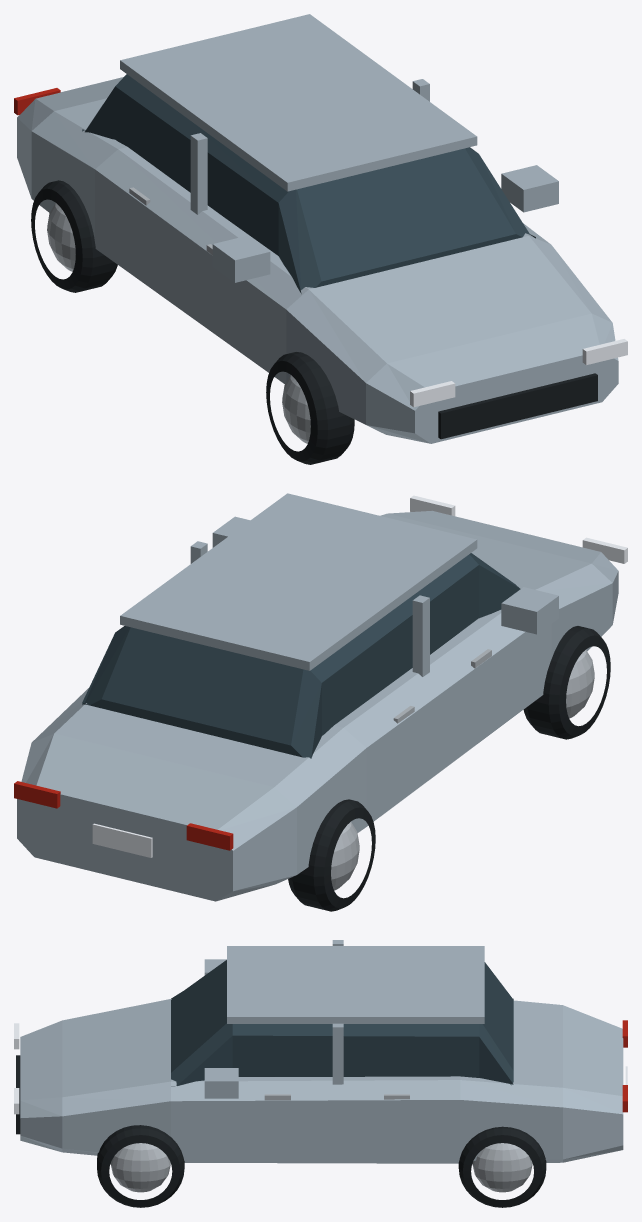
File: campus_ev.glb
The picture shows the model from 3 angles, top to bottom: view 1: azimuth 30°, elevation 25°; view 2: azimuth 150°, elevation 25°; view 3: azimuth 270°, elevation 25°; orthographic projection. The views are drawn at different scales.
Visible parts, largest first — view 1: body, roof, glass, wheel-front-right, lower-grille, mirror (×2), wheel-back-right, alloy-hub (×2), front-light (×2), window-pillar; view 2: body, roof, glass, wheel-front-right, wheel-back-right, alloy-hub (×2), mirror, rear-light (×2), window-pillar, number-plate, front-light (×2); view 3: body, glass, roof, alloy-hub (×2), wheel-front-left, wheel-back-left, mirror, window-pillar.
Boxes of the visible parts, bbox=[...] form: body: bbox=[17, 77, 618, 443]; roof: bbox=[120, 14, 477, 191]; glass: bbox=[82, 74, 535, 293]; wheel-front-right: bbox=[266, 352, 354, 464]; lower-grille: bbox=[438, 373, 597, 439]; mirror (×2): bbox=[212, 165, 558, 282]; wheel-back-right: bbox=[31, 180, 117, 292]; alloy-hub (×2): bbox=[47, 203, 310, 443]; front-light (×2): bbox=[410, 339, 627, 407]; window-pillar: bbox=[190, 133, 207, 214]; body: bbox=[17, 510, 618, 901]; roof: bbox=[120, 493, 477, 670]; glass: bbox=[82, 553, 520, 758]; wheel-front-right: bbox=[523, 626, 610, 739]; wheel-back-right: bbox=[288, 799, 375, 911]; alloy-hub (×2): bbox=[331, 650, 594, 890]; mirror: bbox=[501, 587, 558, 634]; rear-light (×2): bbox=[14, 781, 233, 850]; window-pillar: bbox=[412, 595, 429, 676]; number-plate: bbox=[92, 823, 152, 857]; front-light (×2): bbox=[410, 495, 627, 563]; body: bbox=[20, 999, 623, 1163]; glass: bbox=[171, 960, 513, 1086]; roof: bbox=[227, 946, 484, 1023]; alloy-hub (×2): bbox=[110, 1143, 532, 1192]; wheel-front-left: bbox=[97, 1125, 184, 1207]; wheel-back-left: bbox=[458, 1126, 546, 1207]; mirror: bbox=[204, 1068, 238, 1098]; window-pillar: bbox=[332, 1023, 343, 1084].
Bounding box in the file's own units: 2.1 × 1.4 × 4.48.
